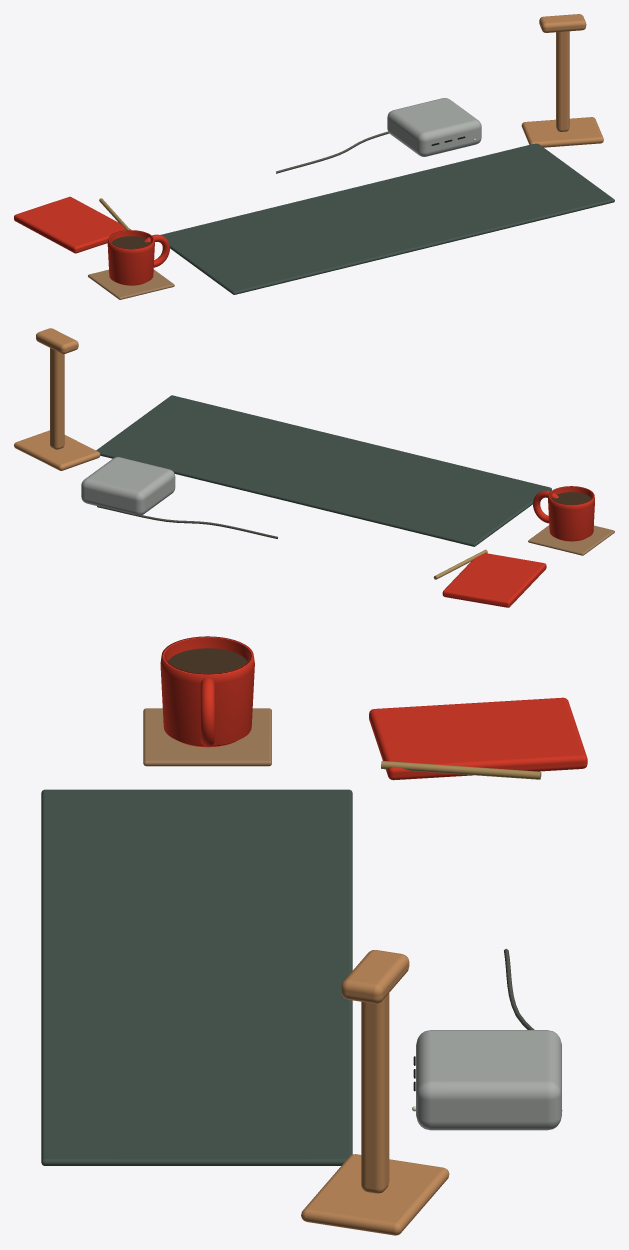
Rendered from desk.glb.
The picture shows the model from 3 angles, top to bottom: view 1: azimuth 30°, elevation 25°; view 2: azimuth 150°, elevation 25°; view 3: azimuth 270°, elevation 25°; orthographic projection. The views are drawn at different scales.
Visible parts, largest first — view 1: WoolDeskMat, Original oak desk and creator tools, OakHeadphoneBase, OakHeadphoneStand, OakHeadphoneRest; view 2: WoolDeskMat, Original oak desk and creator tools, OakHeadphoneBase, OakHeadphoneStand, OakHeadphoneRest; view 3: WoolDeskMat, Original oak desk and creator tools, OakHeadphoneBase, OakHeadphoneStand, OakHeadphoneRest.
Part boxes in pixels (bbox=[...]): WoolDeskMat: bbox=[160, 143, 614, 294]; Original oak desk and creator tools: bbox=[14, 98, 481, 299]; OakHeadphoneBase: bbox=[521, 117, 603, 147]; OakHeadphoneStand: bbox=[556, 31, 569, 131]; OakHeadphoneRest: bbox=[539, 14, 586, 32]; WoolDeskMat: bbox=[96, 395, 551, 546]; Original oak desk and creator tools: bbox=[81, 457, 614, 607]; OakHeadphoneBase: bbox=[14, 430, 100, 470]; OakHeadphoneStand: bbox=[50, 348, 64, 449]; OakHeadphoneRest: bbox=[36, 328, 78, 354]; WoolDeskMat: bbox=[41, 789, 352, 1165]; Original oak desk and creator tools: bbox=[143, 636, 587, 1130]; OakHeadphoneBase: bbox=[301, 1154, 449, 1235]; OakHeadphoneStand: bbox=[361, 993, 389, 1193]; OakHeadphoneRest: bbox=[341, 950, 409, 1003].
Size of the model in its own units: 5.79 by 1.2 by 2.54.
